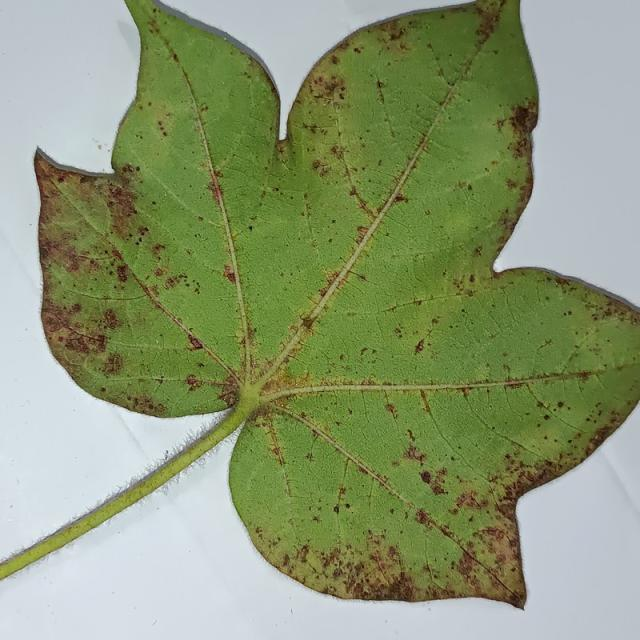Bacterial_Blight: (506, 431, 618, 499), (459, 517, 525, 599), (170, 402, 240, 468), (298, 255, 361, 326), (562, 313, 624, 373), (569, 413, 625, 467), (380, 290, 479, 316), (61, 280, 152, 302), (228, 375, 267, 420), (260, 383, 405, 395), (240, 394, 292, 427), (417, 461, 458, 498), (509, 463, 556, 495), (301, 184, 317, 263), (472, 9, 503, 45), (404, 328, 432, 364), (183, 374, 231, 395), (338, 448, 354, 507), (63, 332, 101, 356), (45, 307, 75, 335), (205, 175, 226, 214), (379, 576, 413, 599), (453, 489, 485, 512), (516, 102, 539, 133), (451, 274, 482, 296), (298, 311, 324, 337), (162, 271, 192, 292), (59, 249, 82, 274), (381, 20, 406, 41), (403, 445, 426, 467), (216, 385, 238, 407), (101, 354, 123, 374), (320, 77, 342, 97), (101, 308, 121, 329), (276, 141, 291, 167), (418, 389, 433, 414), (375, 77, 386, 105), (332, 84, 346, 106), (186, 333, 204, 350), (223, 264, 238, 283), (186, 375, 203, 391), (311, 158, 328, 173), (336, 485, 347, 508), (116, 264, 130, 282), (354, 225, 370, 240), (206, 180, 221, 195), (416, 510, 431, 525), (121, 163, 138, 176), (357, 464, 372, 478), (233, 327, 246, 341), (111, 249, 124, 263), (151, 243, 164, 257), (164, 276, 177, 289), (420, 470, 432, 484), (538, 338, 553, 349), (299, 547, 310, 562), (157, 120, 167, 136), (384, 403, 396, 416), (506, 178, 518, 190), (577, 371, 591, 380), (394, 193, 406, 203), (70, 303, 82, 313), (348, 186, 358, 196), (333, 568, 342, 579), (154, 268, 164, 277), (229, 229, 238, 239), (330, 55, 339, 65), (357, 273, 367, 281), (376, 80, 384, 89), (394, 327, 402, 336), (278, 400, 286, 408), (172, 53, 179, 62), (333, 506, 340, 514), (273, 447, 280, 455), (556, 401, 564, 408), (57, 176, 65, 183), (353, 47, 361, 54), (469, 274, 475, 283), (163, 452, 169, 461), (543, 413, 550, 420), (197, 215, 204, 222), (198, 362, 205, 368), (467, 184, 473, 191), (502, 351, 509, 357), (100, 387, 106, 393), (268, 377, 274, 383), (324, 101, 330, 107), (248, 225, 253, 231), (138, 237, 143, 243), (566, 310, 572, 315), (97, 144, 102, 150), (331, 219, 336, 224)
Cotton: (33, 0, 639, 607)
